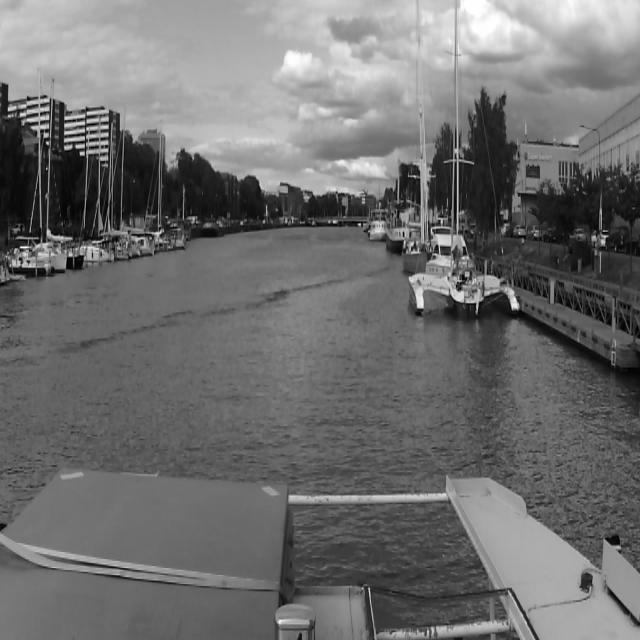ship: (409, 0, 521, 328), (400, 0, 430, 283), (30, 70, 66, 276), (44, 78, 78, 270), (96, 114, 132, 260), (123, 105, 157, 258), (110, 123, 144, 257), (156, 121, 188, 251), (424, 212, 476, 274), (4, 246, 54, 276), (387, 202, 409, 250), (367, 195, 387, 242)
